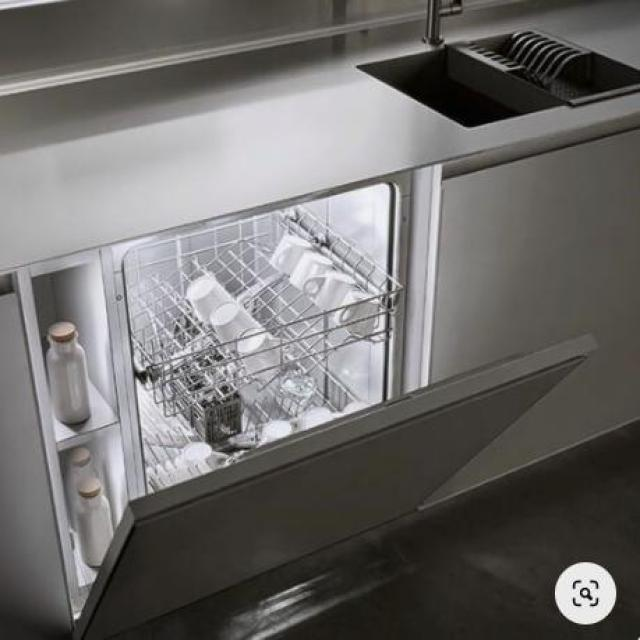dishwasher: (57, 152, 602, 640)
